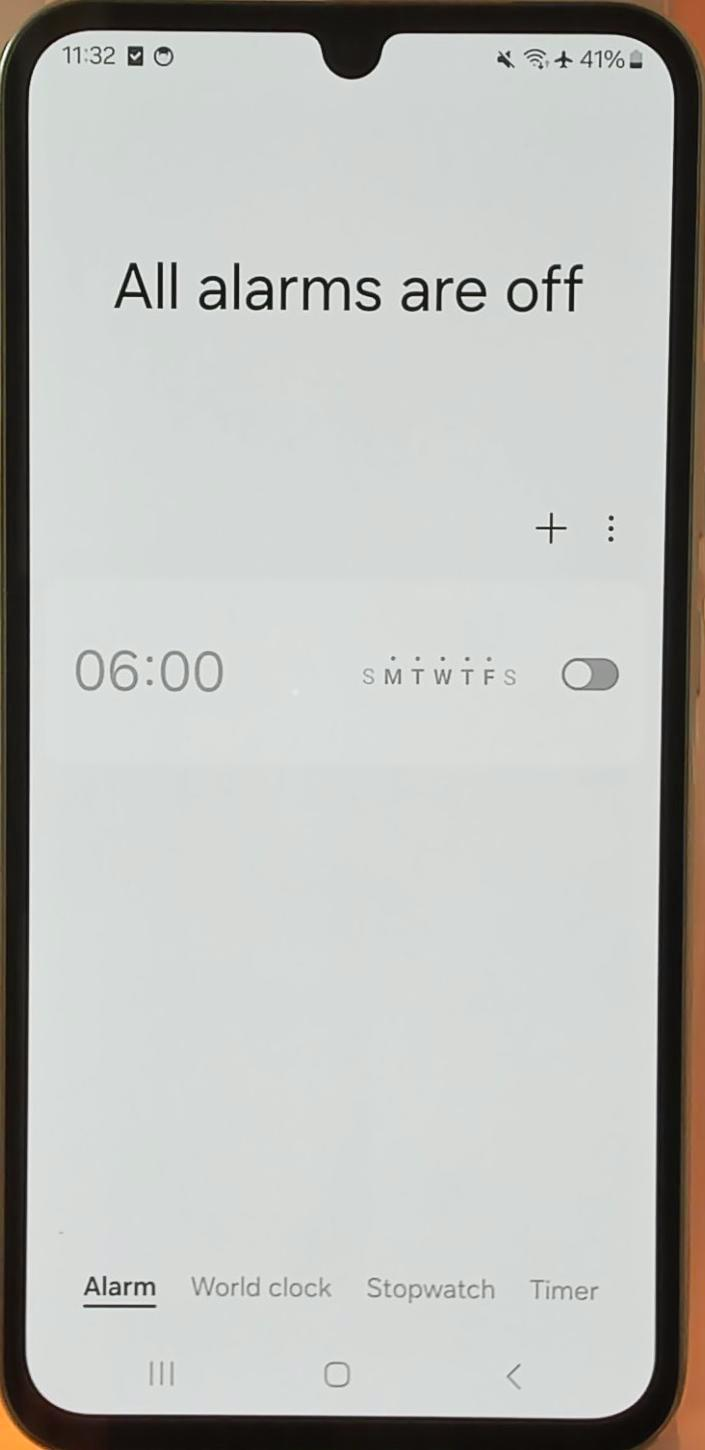Checkbox: (46, 616, 636, 712)
CommunBotton: (188, 1262, 342, 1308), (56, 1258, 168, 1308), (358, 1266, 502, 1304), (520, 1264, 610, 1312), (528, 494, 574, 556), (132, 1354, 192, 1398), (310, 1350, 364, 1396), (494, 1354, 528, 1402)
menu: (594, 488, 620, 562)
